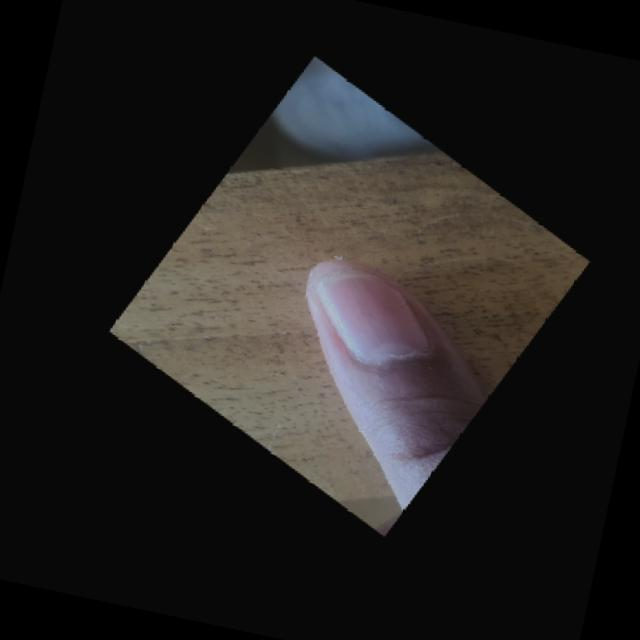Nail: (315, 272, 429, 364)
